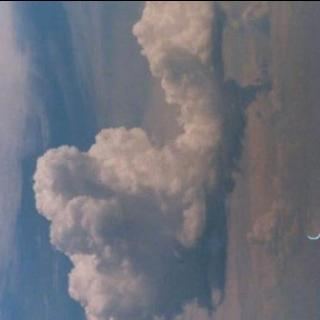Cirrostratus: (26, 0, 265, 320)
